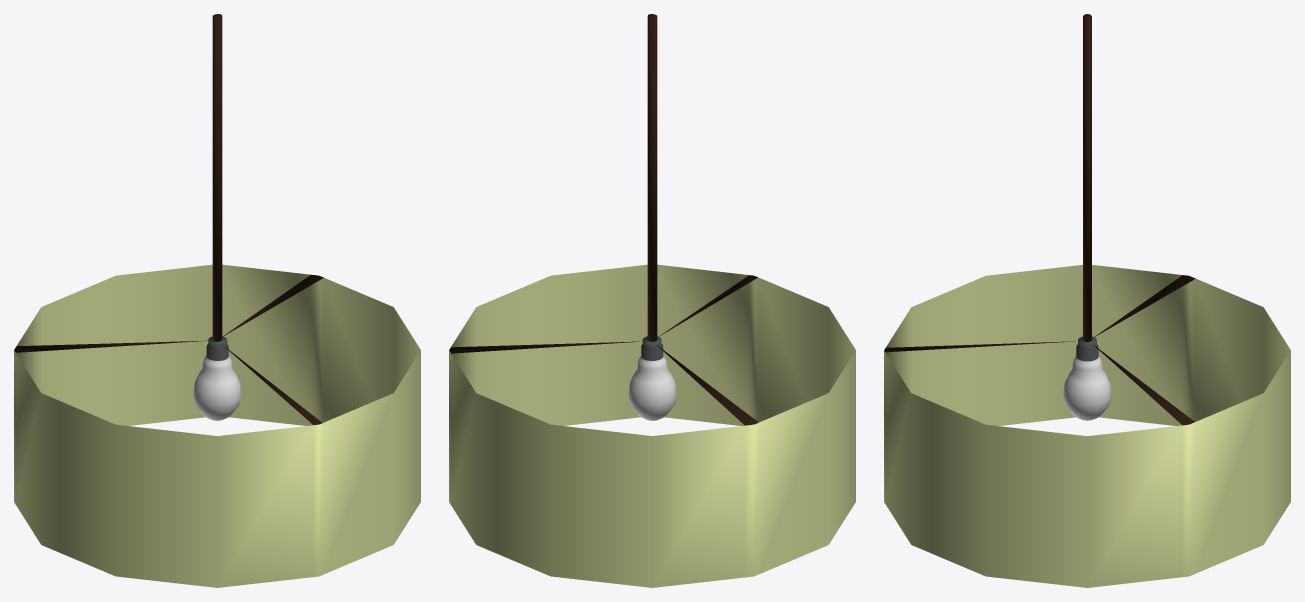
Rendered from Lampe.dae.
3 renders of one model, left to right at view 1: azimuth 30°, elevation 25°; view 2: azimuth 150°, elevation 25°; view 3: azimuth 270°, elevation 25°, orthographic.
Parts seen in each view (by area): view 1: ampoule; view 2: ampoule; view 3: ampoule.
Part boxes in pixels (x1,y1,x2,y2): ampoule: [14, 14, 420, 587]; ampoule: [449, 14, 855, 587]; ampoule: [884, 14, 1290, 587].
Size of the model in its own units: 1.96 by 1.96 by 2.58.
